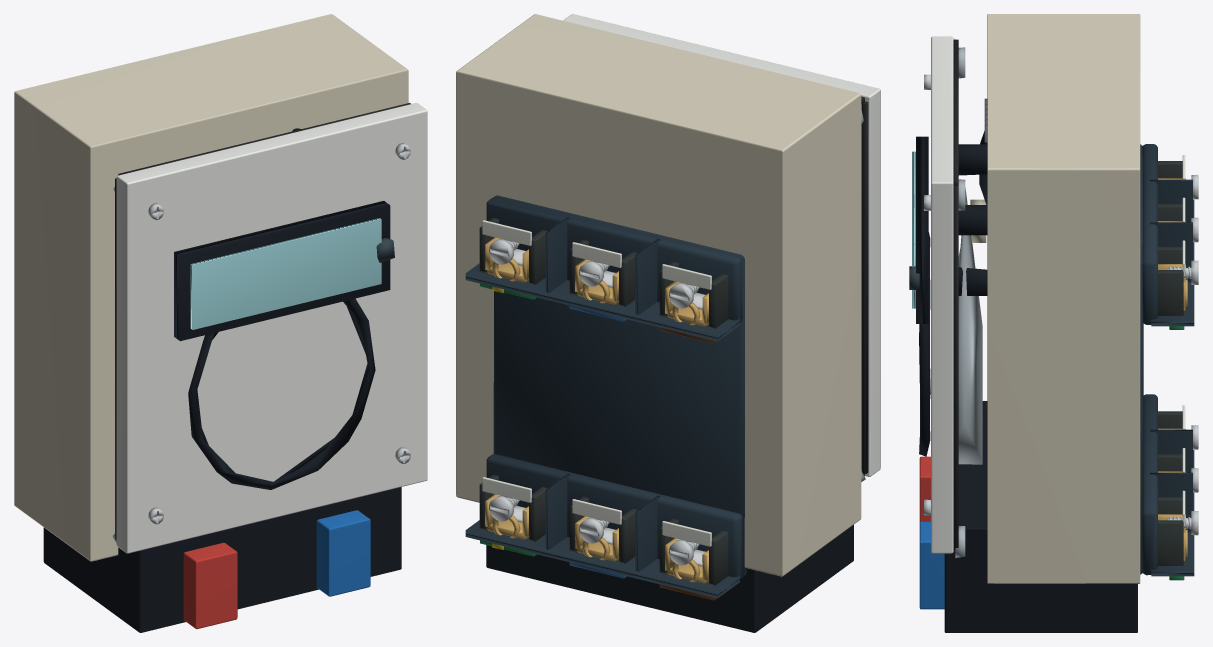
Rendered from meter_default.low.glb.
3 renders of one model, left to right at view 1: azimuth 30°, elevation 25°; view 2: azimuth 150°, elevation 25°; view 3: azimuth 270°, elevation 25°, orthographic. The views are drawn at different scales.
Parts seen in each view (by area): view 1: part:cover, part:body, part:display, part:body.002, detail:enclosure-gasket-and-fixings · Detail rubber gasket, detail:enclosure-gasket-and-fixings · Detail zinc plated fix; view 2: part:body, part:terminals · Original a463fd81, part:cover, detail:enclosure-gasket-and-fixings · Detail rubber gasket, detail:terminal-clamp:L · Detail moulded engineering polymer, detail:terminal-clamp:LOUT · Detail moulded engineering poly, detail:terminal-clamp:PE · Detail moulded engineering polyme, detail:terminal-clamp:N · Detail moulded engineering polymer, detail:terminal-clamp:NOUT · Detail moulded engineering poly, detail:terminal-clamp:PEOUT · Detail moulded engineering pol, detail:terminal-clamp:PEOUT · Detail machined brass, detail:terminal-clamp:N · Detail machined brass (+16 smaller); view 3: part:body, part:cover, part:terminals · Original a463fd81, part:body.001, detail:enclosure-gasket-and-fixings · Detail rubber gasket, part:display, part:electronics · Original 3ff2d46d, part:body.002, detail:terminal-clamp:PE · Detail moulded engineering polyme, detail:terminal-clamp:PEOUT · Detail moulded engineering pol, part:mounting · Original 2a8198d3, detail:terminal-clamp:L · Detail moulded engineering polymer (+3 smaller).
Boxes of the visible parts, box(x1,y1,x2,y2) form: part:cover: box(116, 103, 427, 553); part:body: box(14, 14, 408, 632); part:display: box(174, 201, 390, 341); part:body.002: box(183, 510, 370, 629); detail:enclosure-gasket-and-fixings · Detail rubber gasket: box(115, 103, 410, 539); detail:enclosure-gasket-and-fixings · Detail zinc plated fix: box(148, 143, 410, 524); part:body: box(456, 14, 861, 632); part:terminals · Original a463fd81: box(465, 195, 746, 598); part:cover: box(563, 14, 880, 476); detail:enclosure-gasket-and-fixings · Detail rubber gasket: box(861, 96, 868, 475); detail:terminal-clamp:L · Detail moulded engineering polymer: box(659, 262, 728, 328); detail:terminal-clamp:LOUT · Detail moulded engineering poly: box(659, 518, 728, 585); detail:terminal-clamp:PE · Detail moulded engineering polyme: box(479, 218, 547, 284); detail:terminal-clamp:N · Detail moulded engineering polymer: box(569, 240, 637, 306); detail:terminal-clamp:NOUT · Detail moulded engineering poly: box(569, 496, 636, 563); detail:terminal-clamp:PEOUT · Detail moulded engineering pol: box(479, 474, 547, 541); detail:terminal-clamp:PEOUT · Detail machined brass: box(485, 494, 528, 539); detail:terminal-clamp:N · Detail machined brass: box(575, 259, 618, 304); part:body: box(944, 14, 1140, 632); part:cover: box(919, 36, 953, 553); part:terminals · Original a463fd81: box(1140, 144, 1194, 576); part:body.001: box(958, 187, 982, 464); detail:enclosure-gasket-and-fixings · Detail rubber gasket: box(953, 39, 958, 550); part:display: box(912, 136, 928, 323); part:electronics · Original 3ff2d46d: box(958, 131, 987, 295); part:body.002: box(919, 456, 944, 609); detail:terminal-clamp:PE · Detail moulded engineering polyme: box(1158, 246, 1184, 315); detail:terminal-clamp:PEOUT · Detail moulded engineering pol: box(1158, 497, 1184, 565); part:mounting · Original 2a8198d3: box(955, 47, 965, 557); detail:terminal-clamp:L · Detail moulded engineering polymer: box(1158, 161, 1182, 178).
Size of the model in its own units: 0.77 by 1.1 by 0.6054.
